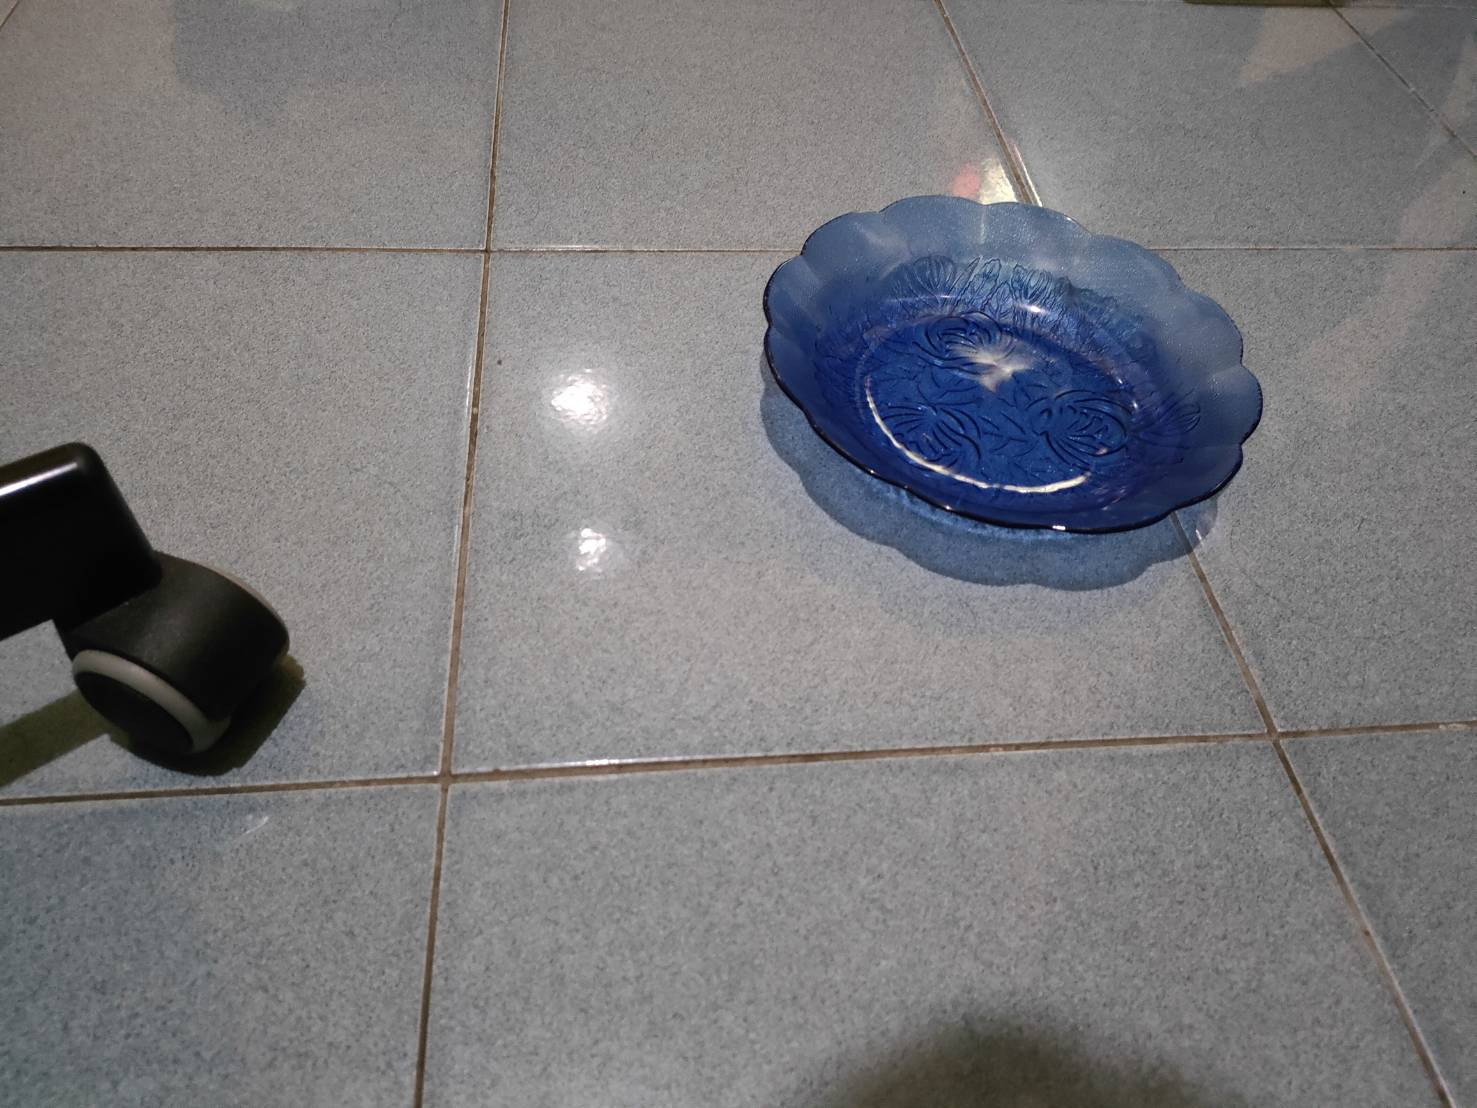piring: (751, 189, 1265, 546)
